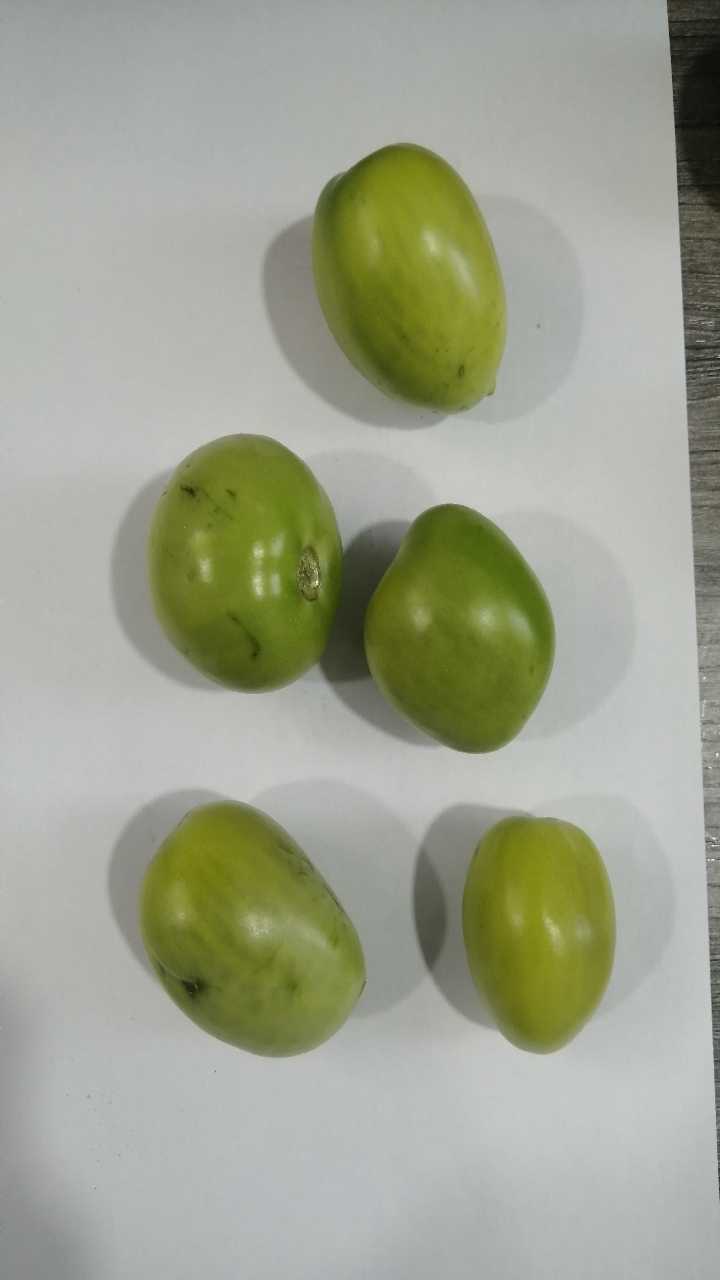tomateVerde: (303, 117, 551, 440), (109, 782, 372, 1080), (354, 477, 588, 775), (131, 400, 351, 711), (443, 794, 640, 1077)
